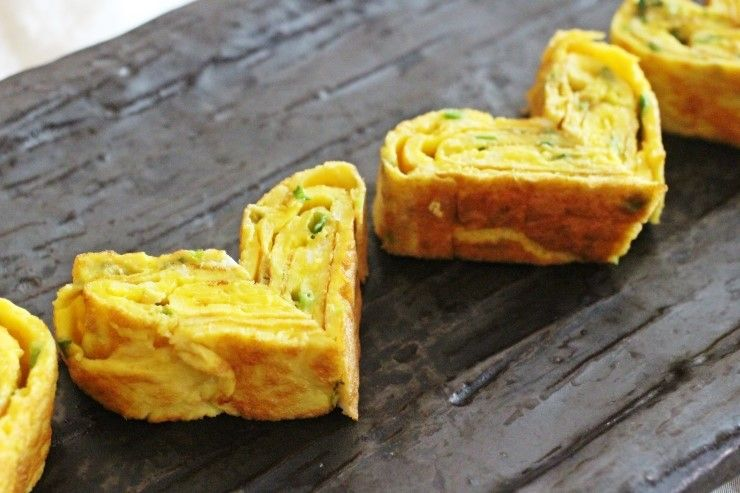gyelanmal-i: (59, 10, 726, 468)
